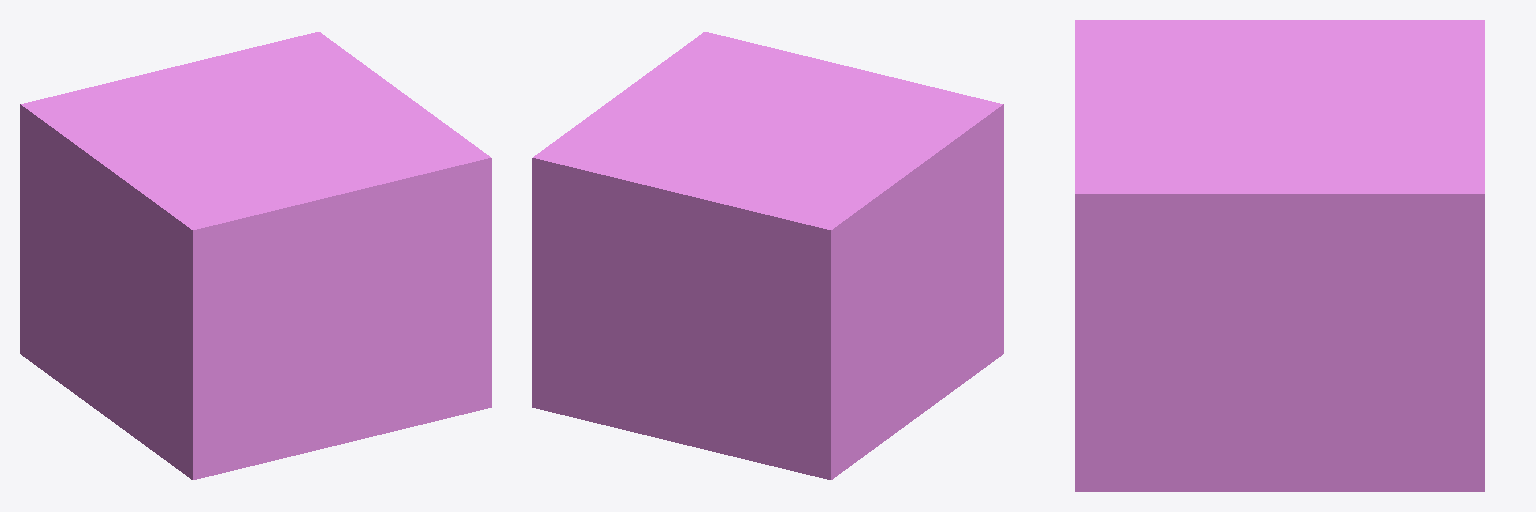
robot.urdf — ball:
<?xml version="0.0" ?>
<robot name="ball">
    <link name="wall">
        <contact>
            <lateral_friction value="1"/>
        </contact>

        <inertial>
            <origin xyz="0 0 0" rpy="0 0 0"/>
            <mass value="0.0"/>
            <inertia ixx="0"  ixy="0"  ixz="0" iyy="0" iyz="0" izz="0" />
        </inertial>

        <visual>
            <origin xyz="0 0 0" rpy="0 0 0" />
            <geometry>
                <box size="1.0 1.0 0.8" />
            </geometry>
            <material name="Orange">
                <color rgba="1.0 0.65 1.0 1.0"/>
            </material>
        </visual>

        <collision>
            <origin xyz="0 0 0" rpy="0 0 0"/>
            <geometry>
                <box size="1.0 1.0 0.8" />
            </geometry>
        </collision>
    </link>
</robot>

--- What the picture shows (computed from the rendered views, not written in the file) ---
Views: 3 orthographic renders of the robot side by side, from view 1: azimuth 30°, elevation 25°; view 2: azimuth 150°, elevation 25°; view 3: azimuth 270°, elevation 25°.
Model ball with 1 links and 0 joints (none), rooted at wall, posed all joints at 0.
Visible links, largest first — view 1: wall; view 2: wall; view 3: wall.
Boxes of the visible links, box(x1,y1,x2,y2) form: wall: box(20, 32, 491, 479); wall: box(532, 32, 1003, 479); wall: box(1075, 20, 1484, 491).
Size in the robot's own frame: 1 by 1 by 0.8 metres.
Geometry: primitives only (box / cylinder / sphere), no mesh files.